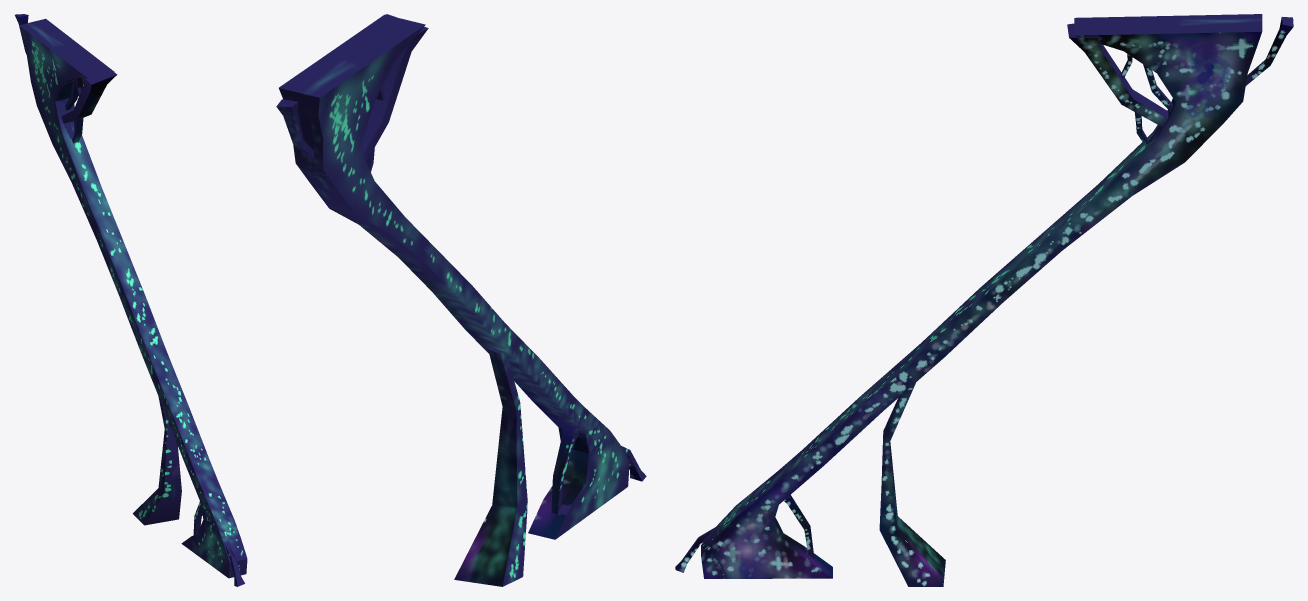
Rendered from web2.fbx.
3 renders of one model, left to right at view 1: azimuth 30°, elevation 25°; view 2: azimuth 150°, elevation 25°; view 3: azimuth 270°, elevation 25°, orthographic. The views are drawn at different scales.
Visible parts, largest first — view 1: Cube.008; view 2: Cube.008; view 3: Cube.008.
Part boxes in pixels (left/top/right/bottom): Cube.008: left=15, top=14, right=247, bottom=586; Cube.008: left=276, top=14, right=646, bottom=586; Cube.008: left=675, top=14, right=1293, bottom=586.
Bounding box in the file's own units: 88.31 × 1028 × 1038.
1 material, 1 textured.
